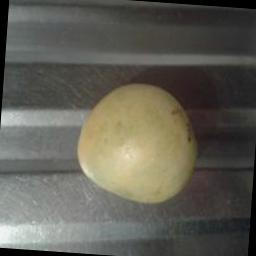Mango Unripe: (67, 72, 205, 211)
